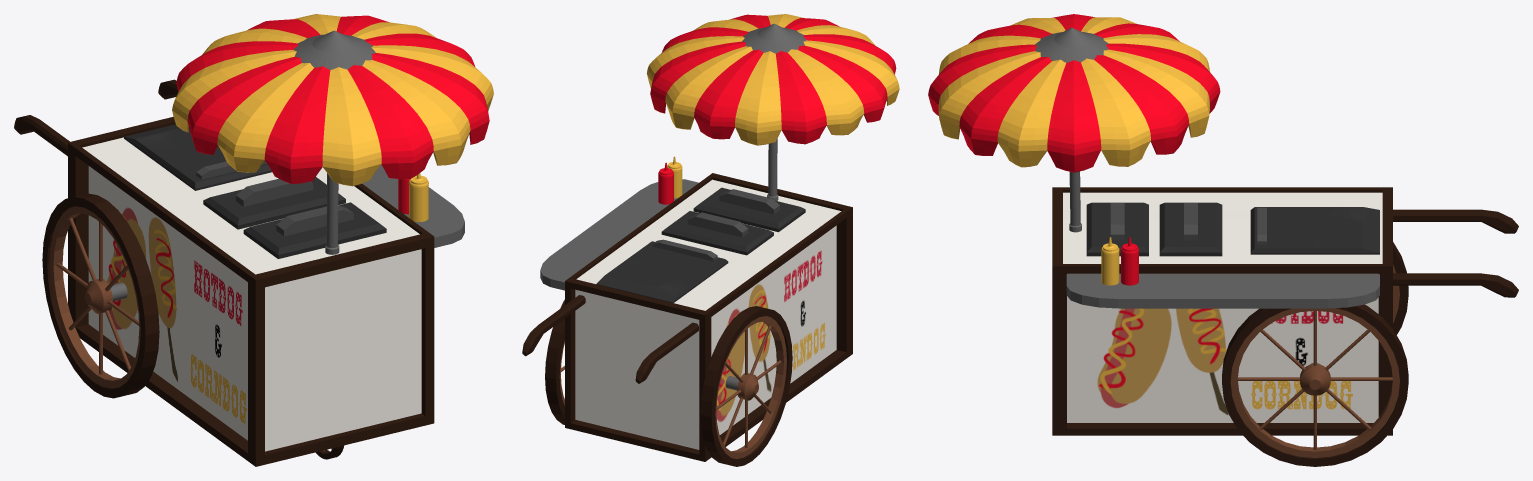
Rendered from HotDog.fbx.
3 views of the same model, side by side, from view 1: azimuth 30°, elevation 25°; view 2: azimuth 150°, elevation 25°; view 3: azimuth 270°, elevation 25° (orthographic). The views are drawn at different scales.
Parts seen in each view (by area): view 1: Cylinder.003; view 2: Cylinder.003; view 3: Cylinder.003.
Boxes of the visible parts, x1,y1,x2,y2 form: Cylinder.003: (14, 14, 493, 466); Cylinder.003: (522, 14, 899, 466); Cylinder.003: (928, 14, 1518, 466).
Size of the model in its own units: 320 by 464 by 632.
